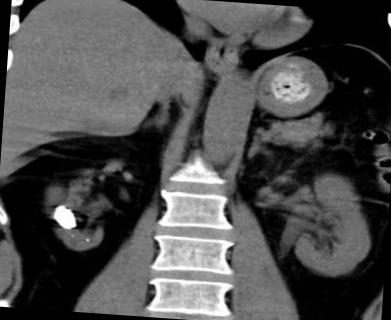Tas_Var: (46, 201, 80, 233), (84, 238, 90, 242), (70, 235, 76, 238)
